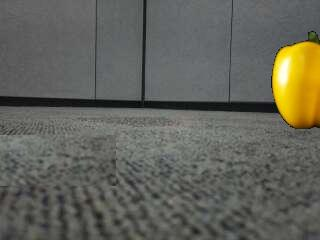Capsicum: (272, 31, 320, 129)
